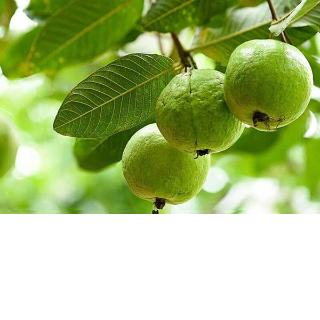oi: (221, 33, 314, 131), (117, 116, 212, 205), (156, 65, 246, 157)
